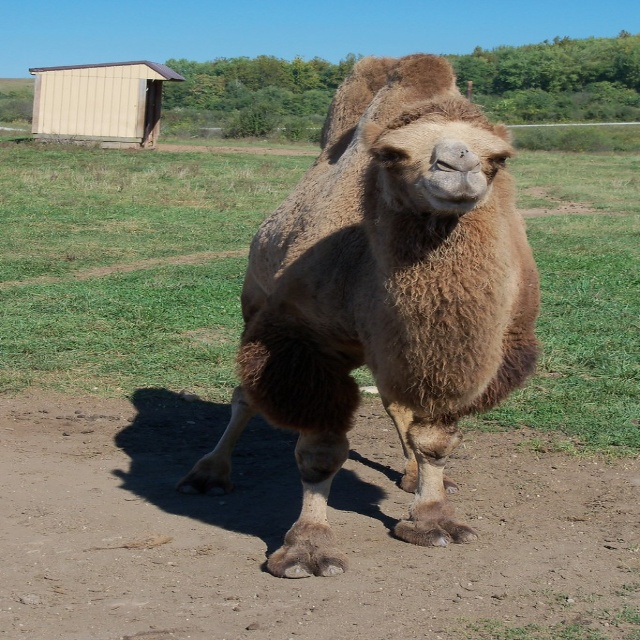Camel: (163, 53, 546, 580)
